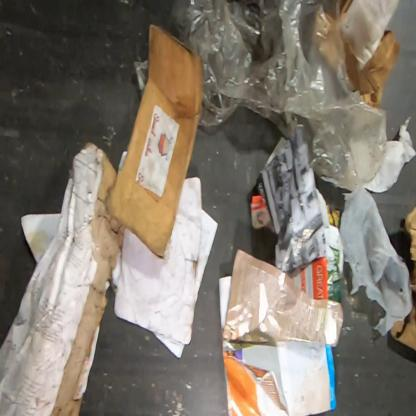cardboard: (0, 141, 127, 415), (107, 23, 205, 258), (112, 175, 219, 360), (342, 28, 402, 109), (389, 202, 415, 353)
soft_plastic: (167, 0, 389, 193), (133, 59, 148, 91)
